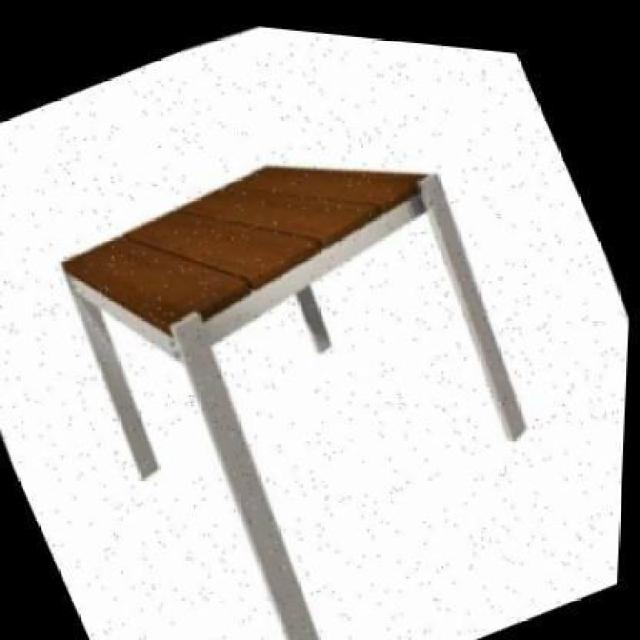tables: (0, 23, 631, 639)
